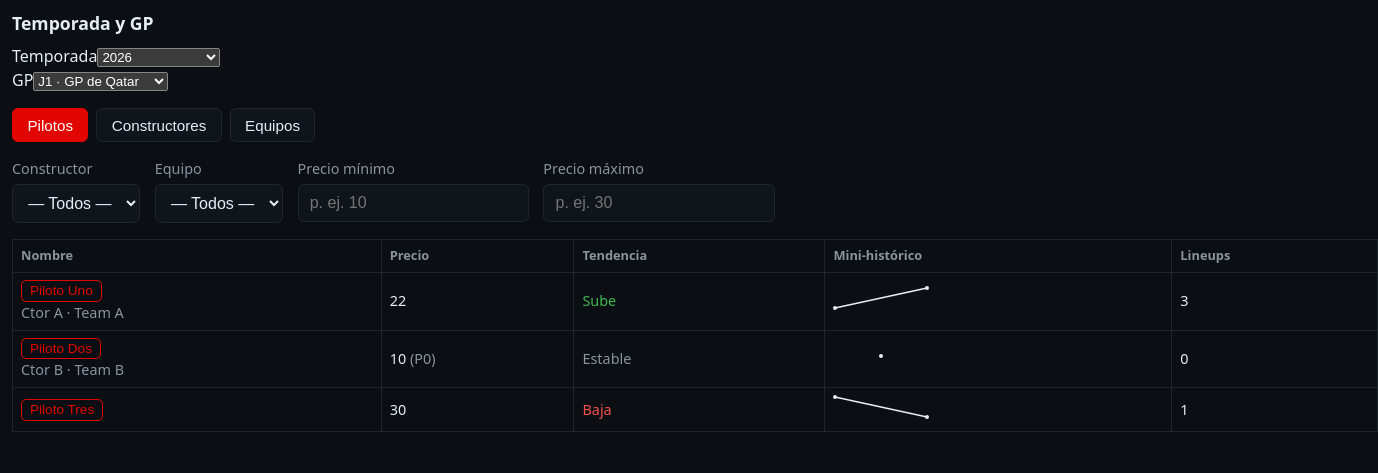
MercadoPage (US-14) › precio mínimo inválido: error local y NO envía el filtro
Step 1. Type "abc" into the field labelled "Precio mínimo" → (413, 203), box [298,184,529,222]
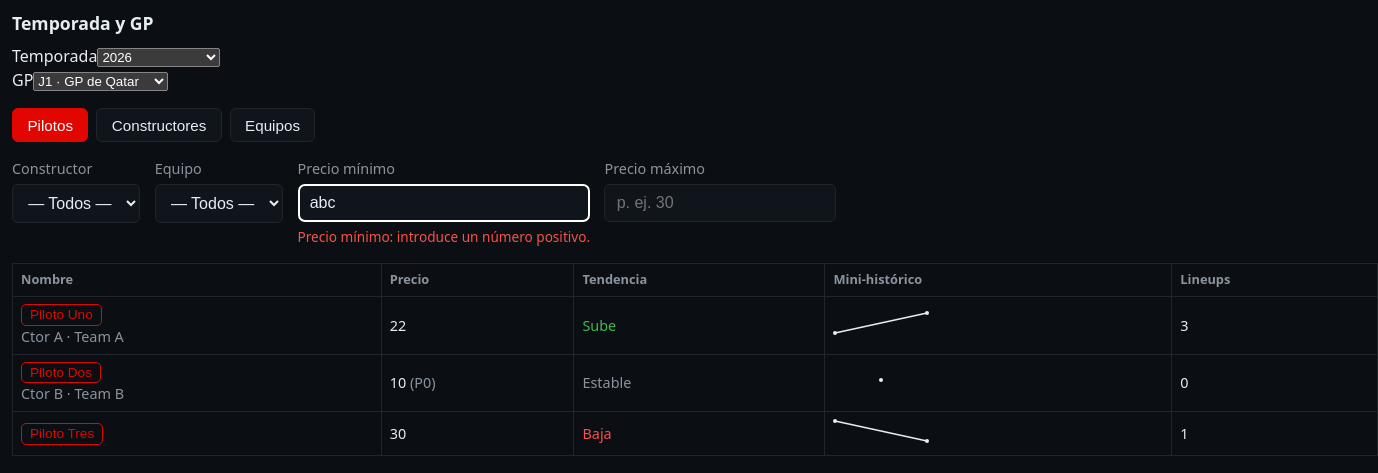
Expected: the text "Precio mínimo: introduce un número positivo." is shown, [298,227,590,247]
